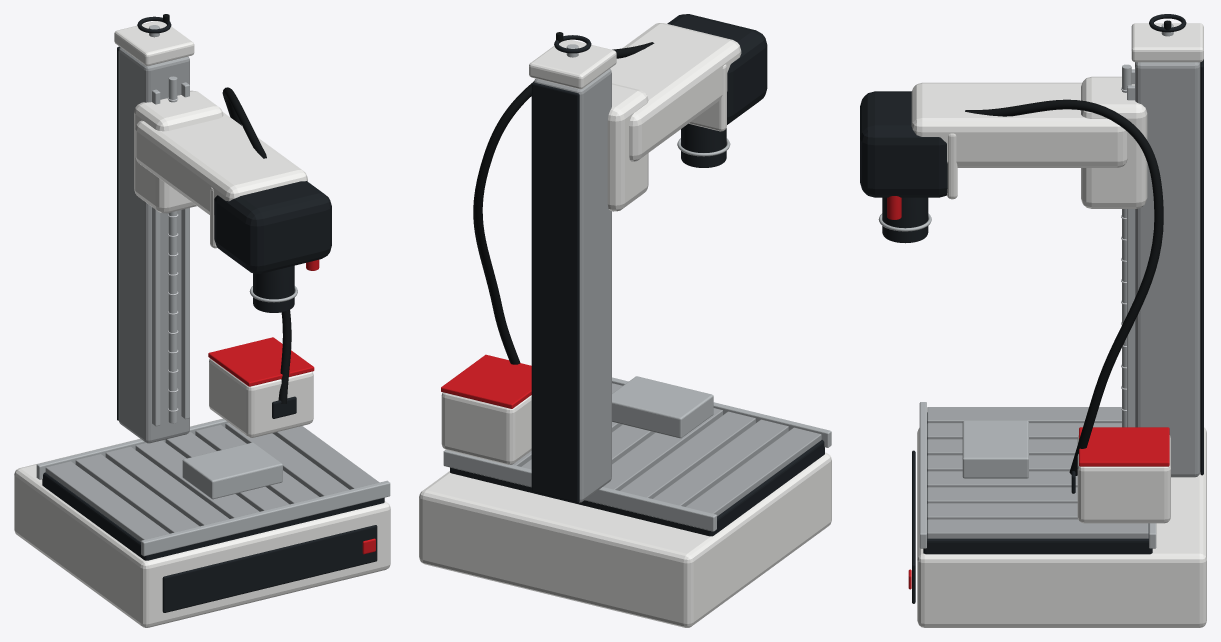
Rendered from graver-compact.glb.
The picture shows the model from 3 angles, left to right: view 1: azimuth 30°, elevation 25°; view 2: azimuth 150°, elevation 25°; view 3: azimuth 270°, elevation 25°; orthographic projection. The views are drawn at different scales.
Parts seen in each view (by area): view 1: desktop laser source base, heavy Z lift column, cantilevered galvo support arm, galvo scanner housing, base front dark control inset, fiber laser source box, compact precision marking table end rail, moving Z carriage, small steel sample on worktable, compact precision marking table aluminium T-slot rib 00, compact precision marking table dark groove bed, compact precision marking table aluminium T-slot rib 02 (+15 smaller); view 2: desktop laser source base, column graphite back, heavy Z lift column, cantilevered galvo support arm, fiber laser source box, small steel sample on worktable, galvo scanner housing, compact precision marking table end rail.001, moving Z carriage, compact precision marking table aluminium T-slot rib 00, compact precision marking table aluminium T-slot rib 01, compact precision marking table aluminium T-slot rib 02 (+9 smaller); view 3: desktop laser source base, heavy Z lift column, cantilevered galvo support arm, galvo scanner housing, fiber laser source box, moving Z carriage, source to galvo armored optical fiber, compact precision marking table aluminium T-slot rib 07, compact precision marking table dark groove bed, small steel sample on worktable, source box red top line, compact precision marking table aluminium T-slot rib 00 (+14 smaller).
Part boxes in pixels (left/top/right/bottom): desktop laser source base: left=14, top=418, right=390, bottom=627; heavy Z lift column: left=118, top=47, right=189, bottom=443; cantilevered galvo support arm: left=135, top=112, right=307, bottom=215; galvo scanner housing: left=214, top=181, right=331, bottom=273; base front dark control inset: left=162, top=525, right=377, bottom=612; fiber laser source box: left=209, top=358, right=313, bottom=437; compact precision marking table end rail: left=141, top=480, right=390, bottom=556; moving Z carriage: left=134, top=90, right=223, bottom=213; small steel sample on worktable: left=182, top=442, right=282, bottom=499; compact precision marking table aluminium T-slot rib 00: left=45, top=461, right=169, bottom=541; compact precision marking table dark groove bed: left=42, top=472, right=384, bottom=560; compact precision marking table aluminium T-slot rib 02: left=105, top=446, right=229, bottom=526; desktop laser source base: left=419, top=452, right=831, bottom=627; column graphite back: left=531, top=82, right=579, bottom=502; heavy Z lift column: left=534, top=69, right=611, bottom=502; cantilevered galvo support arm: left=610, top=23, right=741, bottom=161; fiber laser source box: left=441, top=392, right=531, bottom=464; small steel sample on worktable: left=612, top=376, right=713, bottom=438; galvo scanner housing: left=667, top=14, right=767, bottom=124; compact precision marking table end rail.001: left=443, top=450, right=716, bottom=531; moving Z carriage: left=607, top=83, right=648, bottom=211; compact precision marking table aluminium T-slot rib 00: left=686, top=427, right=821, bottom=516; compact precision marking table aluminium T-slot rib 01: left=653, top=419, right=788, bottom=506; compact precision marking table aluminium T-slot rib 02: left=620, top=411, right=755, bottom=498; desktop laser source base: left=917, top=427, right=1206, bottom=627; heavy Z lift column: left=1135, top=62, right=1200, bottom=477; cantilevered galvo support arm: left=911, top=82, right=1127, bottom=167; galvo scanner housing: left=860, top=91, right=947, bottom=197; fiber laser source box: left=1077, top=435, right=1170, bottom=523; moving Z carriage: left=1081, top=76, right=1147, bottom=208; source to galvo armored optical fiber: left=965, top=99, right=1163, bottom=475; compact precision marking table aluminium T-slot rib 07: left=927, top=519, right=1148, bottom=538; compact precision marking table dark groove bed: left=923, top=412, right=1152, bottom=554; small steel sample on worktable: left=962, top=420, right=1028, bottom=478; source box red top line: left=1079, top=427, right=1169, bottom=466; compact precision marking table aluminium T-slot rib 00: left=927, top=407, right=1121, bottom=423.
Size of the model in its own units: 0.524 by 1 by 0.575.
